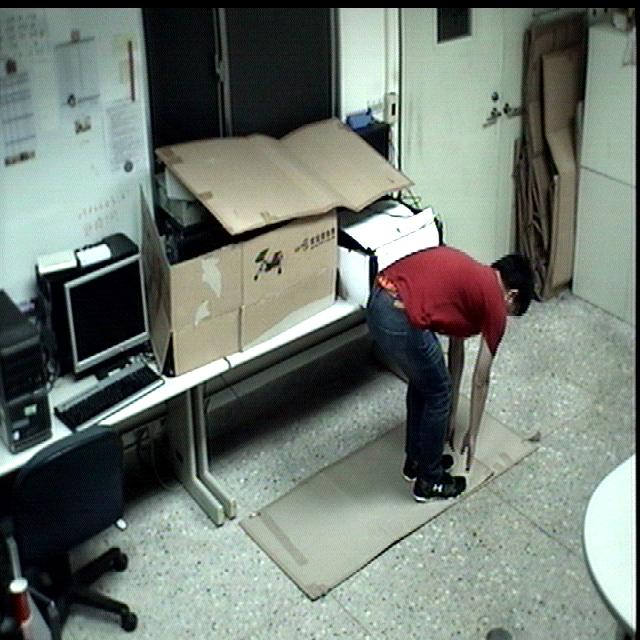bend: (361, 243, 540, 511)
